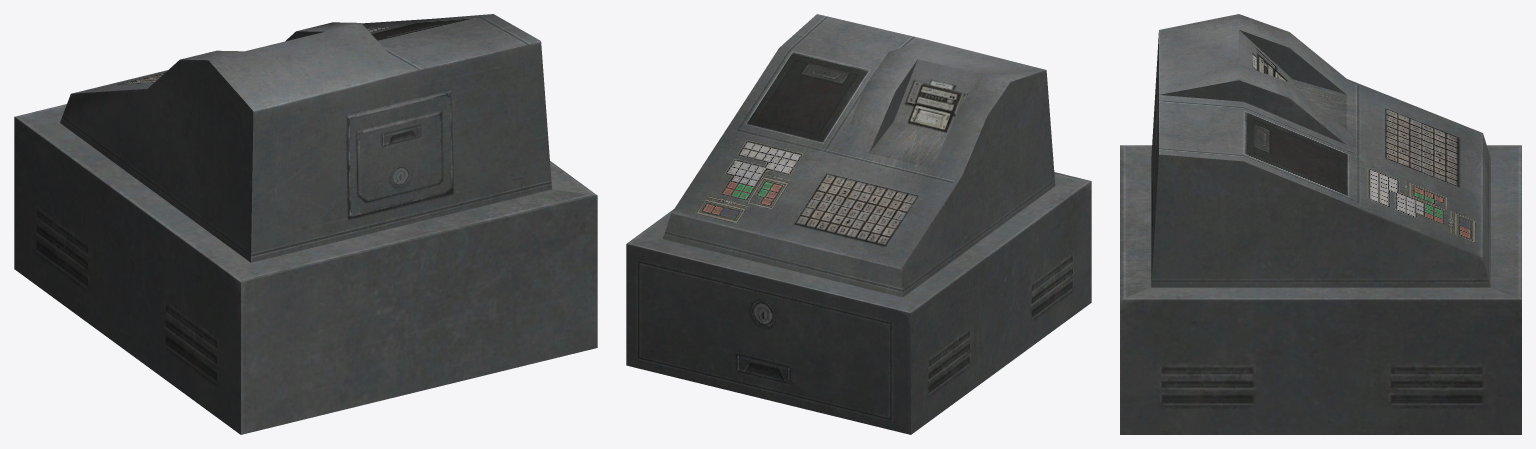
Rendered from Prop_Shoukuaiji.glb.
The picture shows the model from 3 angles, left to right: view 1: azimuth 30°, elevation 25°; view 2: azimuth 150°, elevation 25°; view 3: azimuth 270°, elevation 25°; orthographic projection. The views are drawn at different scales.
Visible parts, largest first — view 1: xiutz_shoukuaiji; view 2: xiutz_shoukuaiji; view 3: xiutz_shoukuaiji.
Boxes of the visible parts, box(x1,y1,x2,y2) form: xiutz_shoukuaiji: box(14, 14, 597, 434); xiutz_shoukuaiji: box(626, 14, 1091, 434); xiutz_shoukuaiji: box(1120, 14, 1521, 434).
Size of the model in its own units: 0.5638 by 0.4792 by 0.6199.
1 material, 1 textured.
